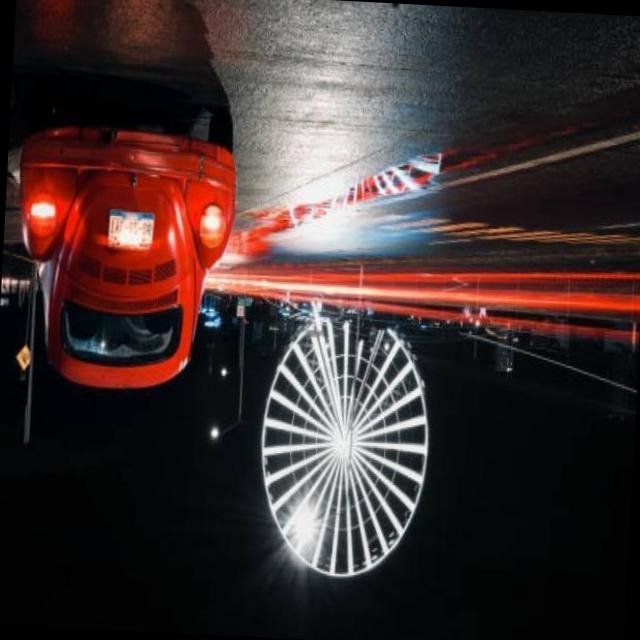car: (6, 96, 236, 398)
